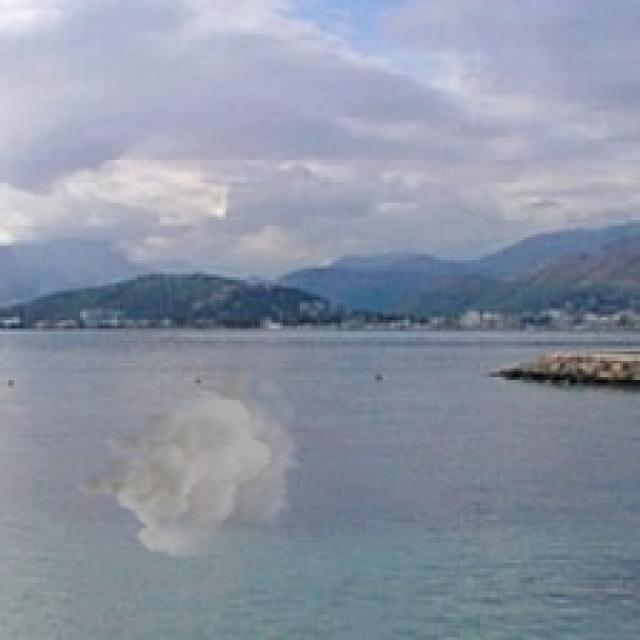smoke: (71, 363, 303, 563)
